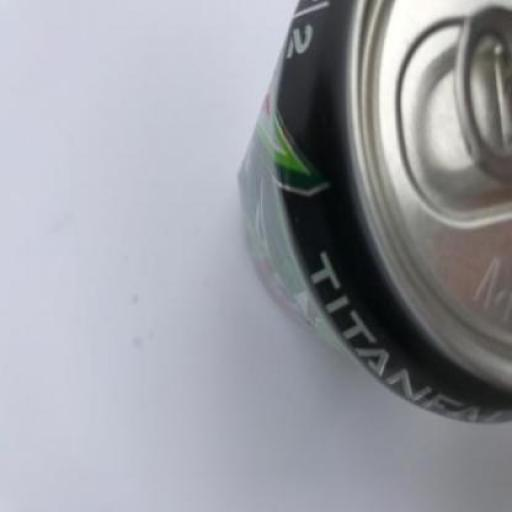metal: (235, 0, 510, 423)
